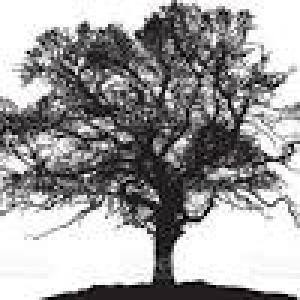Tree: (0, 0, 297, 291)
